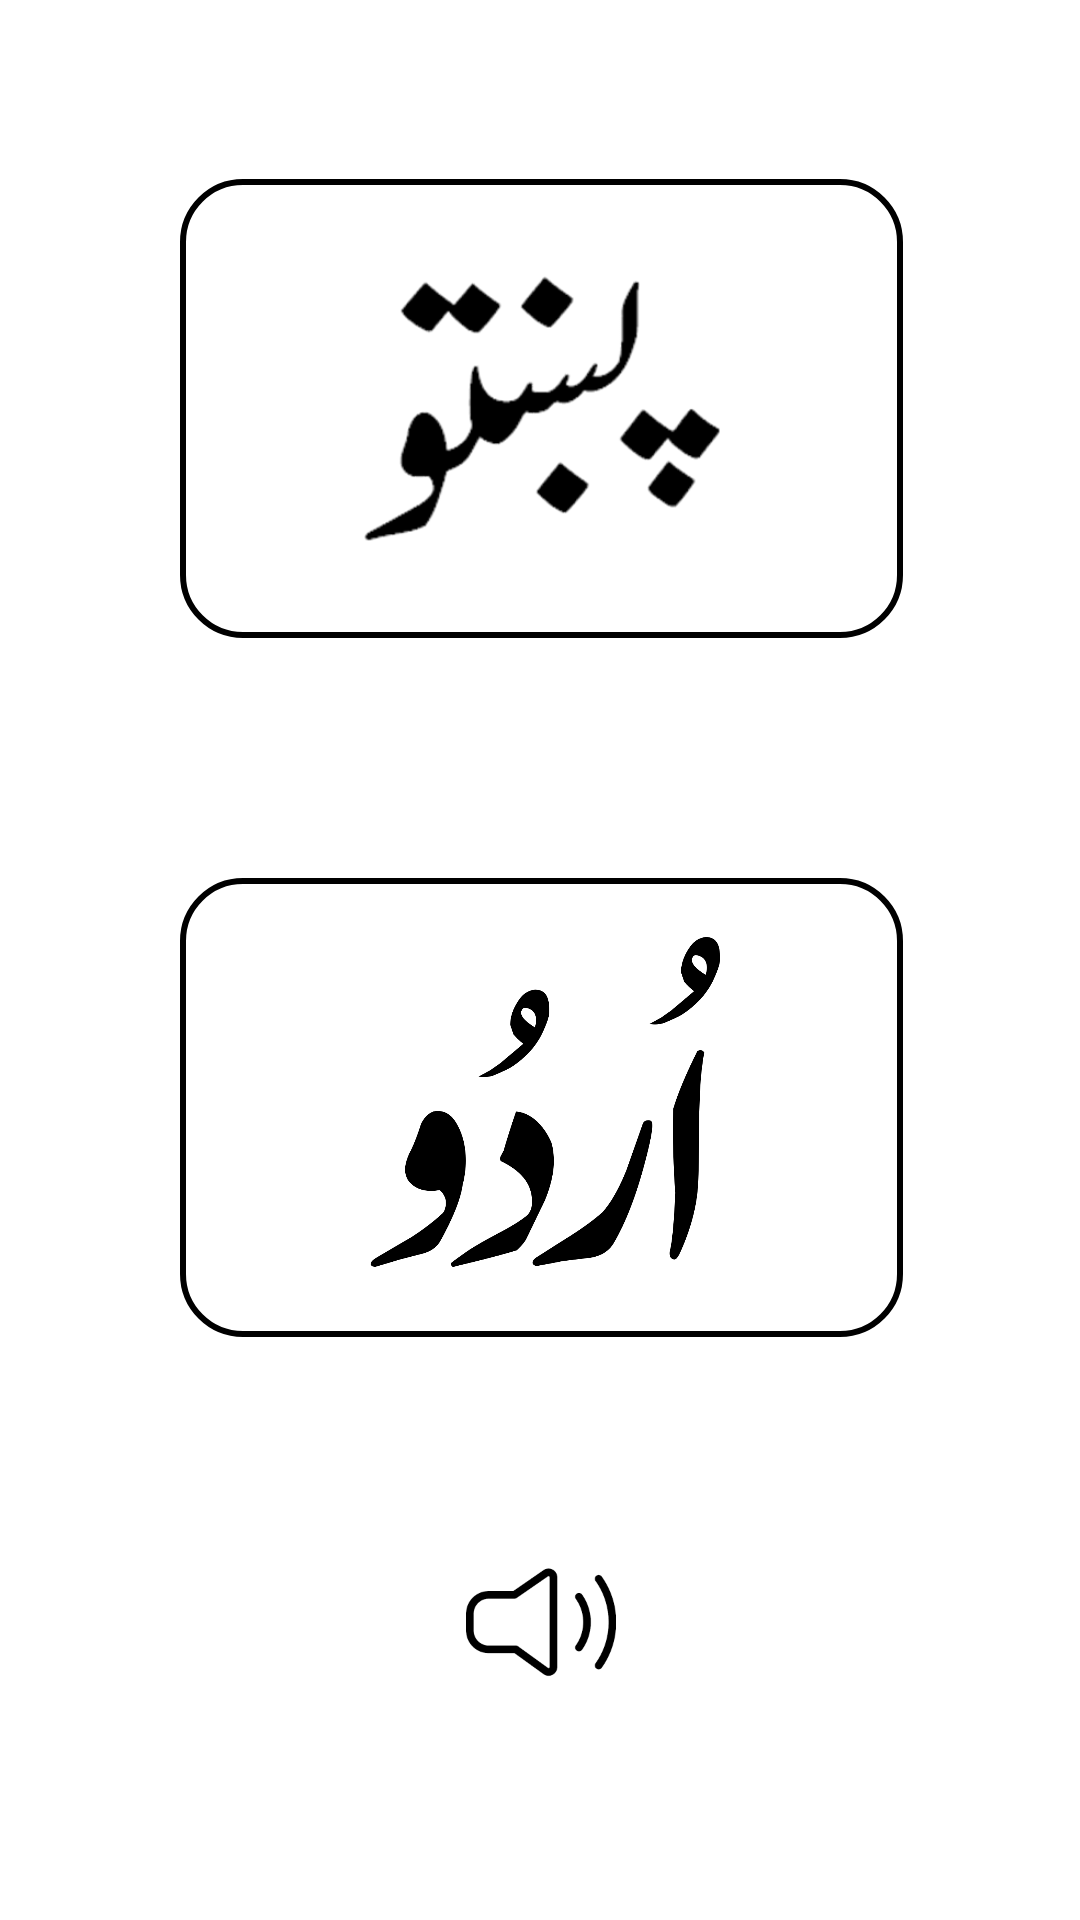

Where to tap for icons on this 1080 x 1920 app screen, as point (x, y):
speaker: point (541, 1622)
